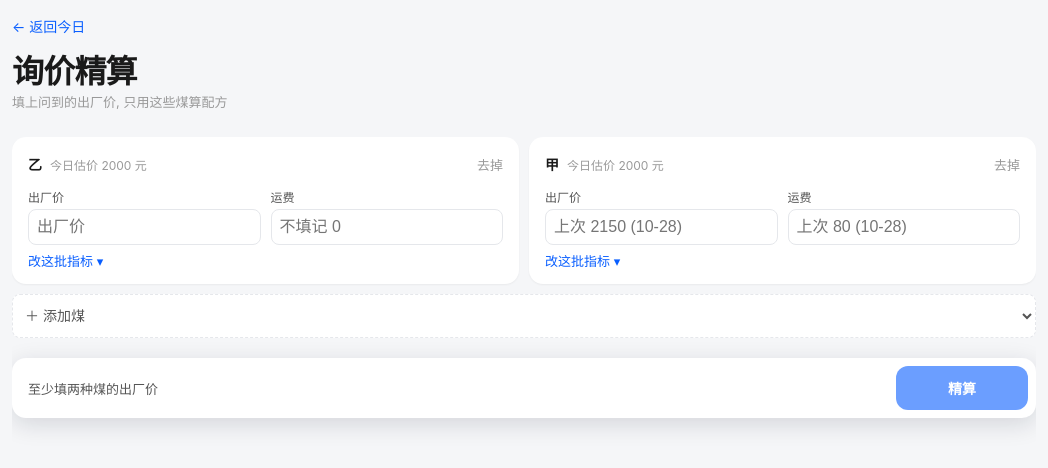
Test: 报价偏离超过 30% 提示高低, 不拦精算
Expected: the dropdown named "添加煤" is shown, [12, 294, 1036, 338]
Type "2600" into the field named "甲 出厂价" at [661, 227], box [545, 209, 778, 245]
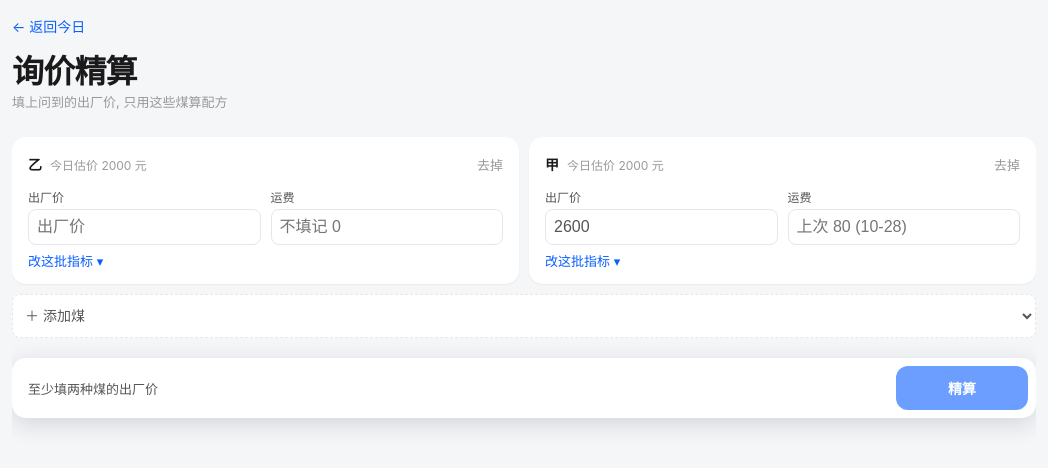
Expected: the text "请核对" is not shown
Replace the text in the field named "甲 出厂价" with "2800" at [661, 227], box [545, 209, 778, 245]
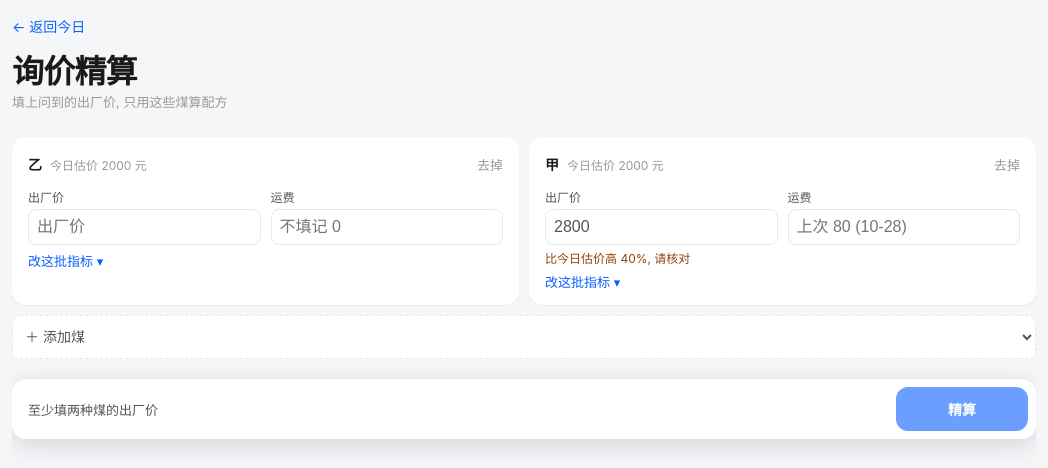
Type "1200" into the field named "乙 出厂价" at [144, 227], box [28, 209, 260, 245]
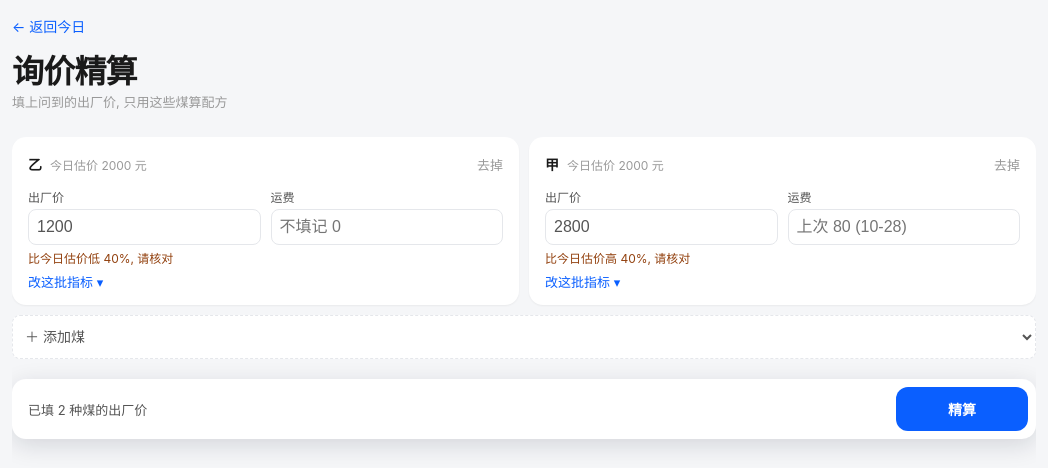
Expected: the text "比今日估价高 40%, 请核对" is shown, [545, 251, 690, 266]
Expected: the text "比今日估价低 40%, 请核对" is shown, [28, 251, 173, 266]
Expected: the button "精算" is enabled, [896, 387, 1028, 431]
